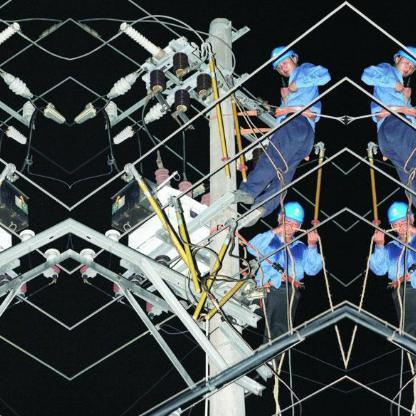Helmet: (268, 44, 301, 78), (389, 44, 415, 79), (283, 198, 305, 232), (385, 198, 407, 232)
